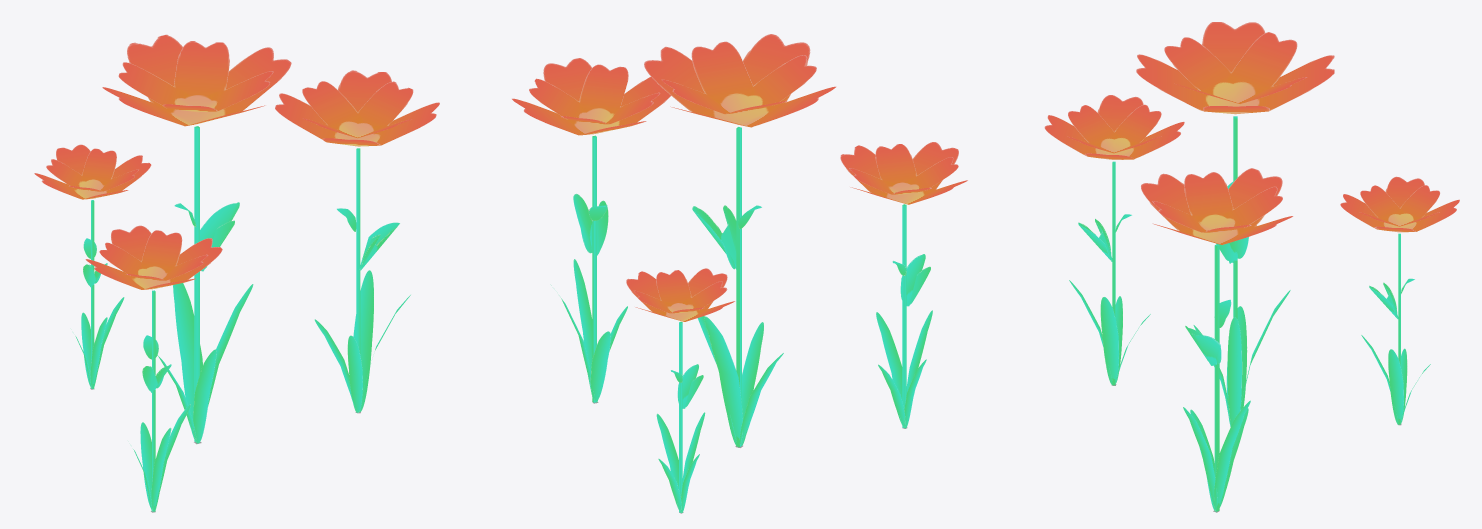
File: Flower_n_07.fbx
3 renders of one model, left to right at view 1: azimuth 30°, elevation 25°; view 2: azimuth 150°, elevation 25°; view 3: azimuth 270°, elevation 25°, orthographic.
Visible parts, largest first — view 1: polySurface355; view 2: polySurface355; view 3: polySurface355.
Boxes of the visible parts, x1=… form: polySurface355: x1=34, y1=34, x2=439, y2=512; polySurface355: x1=512, y1=34, x2=967, y2=513; polySurface355: x1=1044, y1=22, x2=1459, y2=512.
Size of the model in its own units: 79.22 by 65.84 by 68.99.
2 materials, 1 textured.
